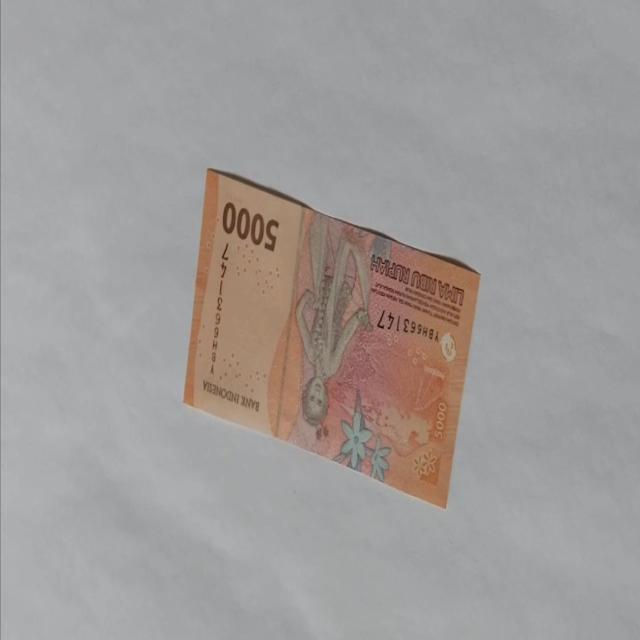lima ribu rupiah: (182, 166, 482, 510)
